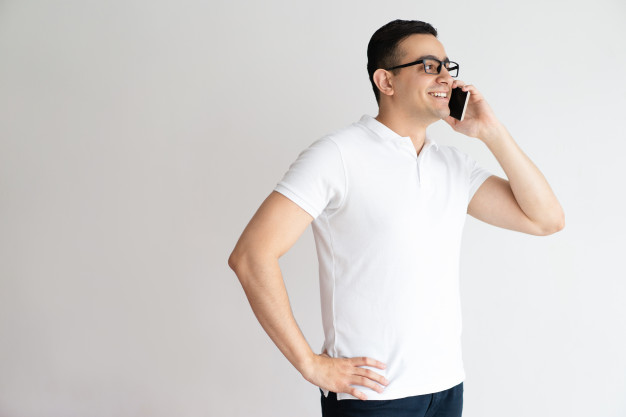phone: (445, 77, 476, 136)
talk: (410, 52, 490, 142)
